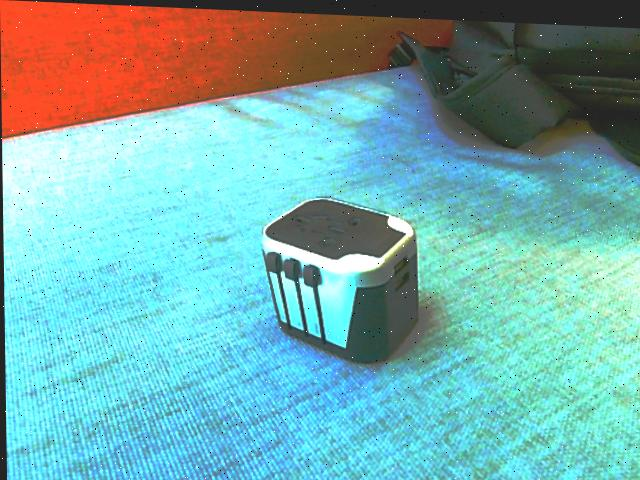adapter: (258, 191, 419, 362)
